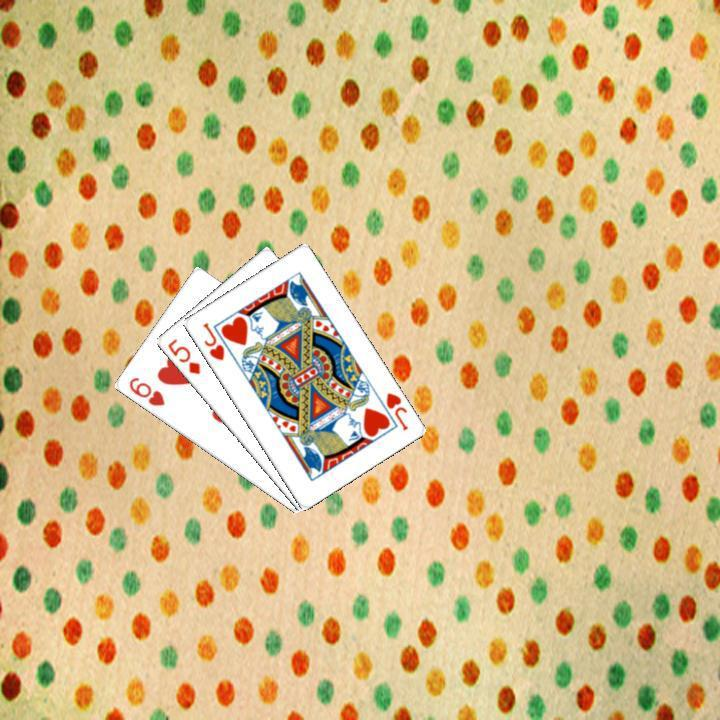5: (163, 334, 202, 377)
6: (124, 373, 166, 408)
J: (381, 388, 410, 432), (198, 318, 226, 363)
